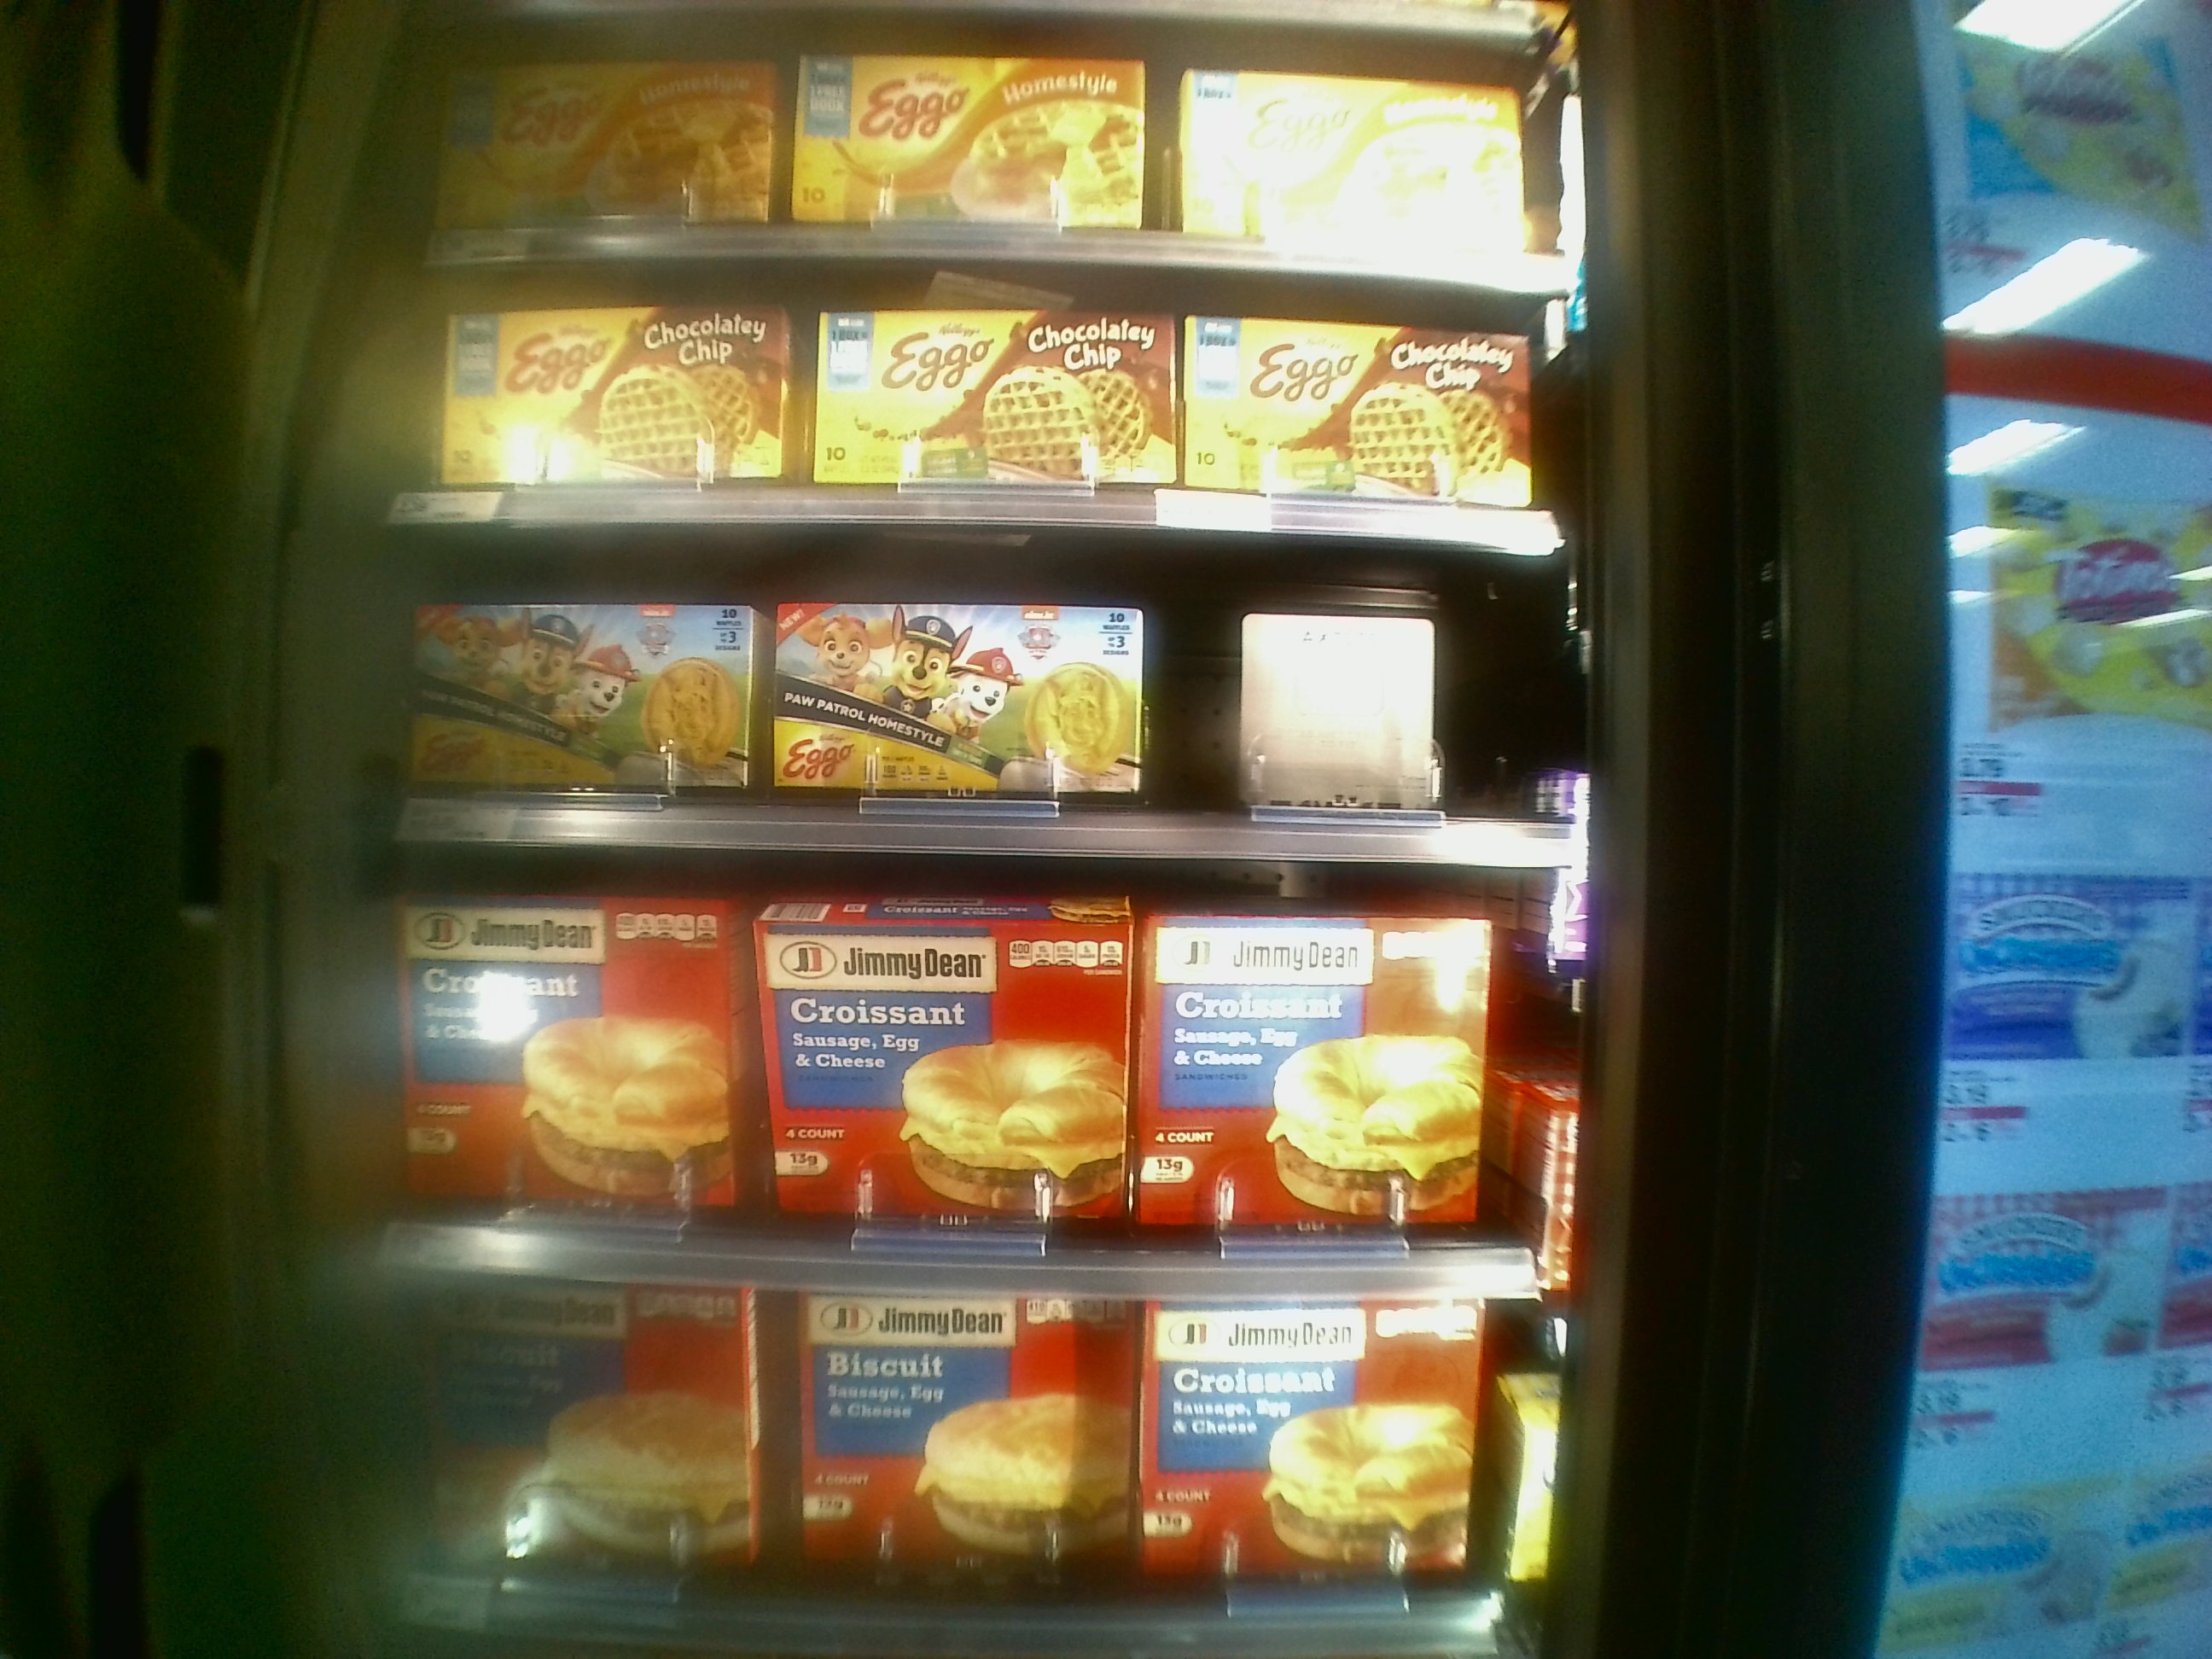shelf: (392, 523, 1578, 870), (380, 247, 1569, 545)
